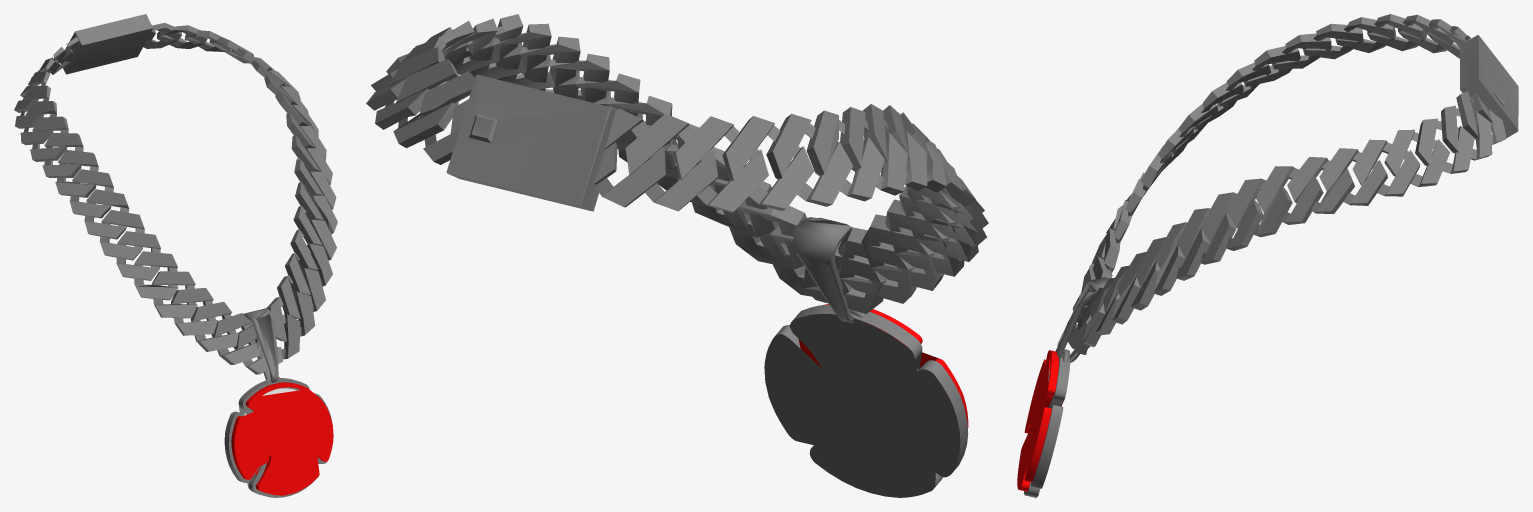
The model's file is cadena teleton wa.fbx.
3 views of the same model, side by side, from view 1: azimuth 30°, elevation 25°; view 2: azimuth 150°, elevation 25°; view 3: azimuth 270°, elevation 25° (orthographic). The views are drawn at different scales.
Visible parts, largest first — view 1: cadena teleton wa.001; view 2: cadena teleton wa.001; view 3: cadena teleton wa.001.
Boxes of the visible parts, box(x1,y1,x2,y2) form: cadena teleton wa.001: box(14, 14, 337, 497); cadena teleton wa.001: box(366, 14, 988, 497); cadena teleton wa.001: box(1017, 14, 1518, 497).
Bounding box in the file's own units: 19.39 × 24.01 × 25.08.
